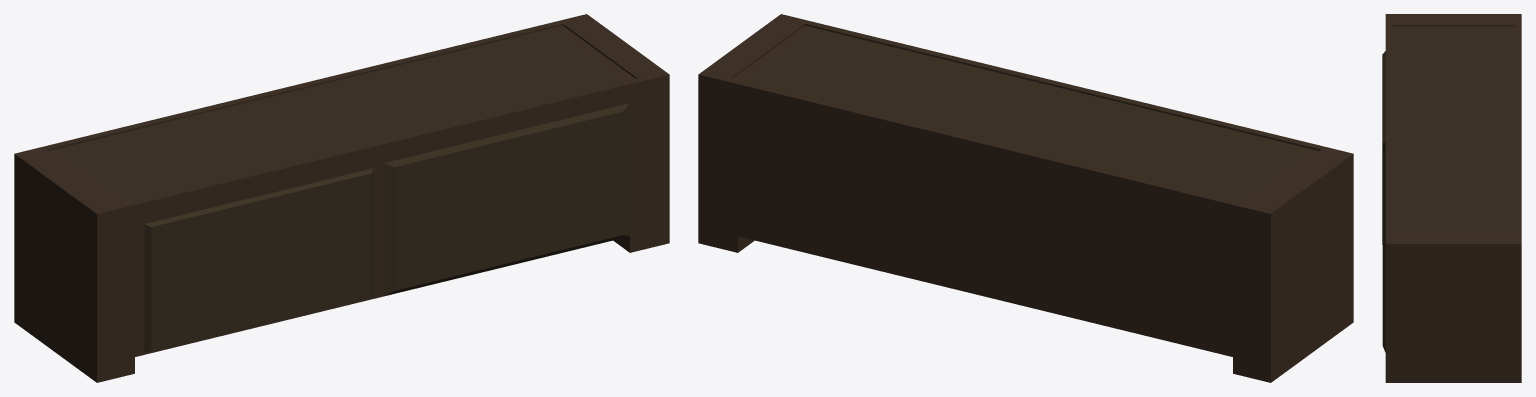
File: TV stand.fbx
3 renders of one model, left to right at view 1: azimuth 30°, elevation 25°; view 2: azimuth 150°, elevation 25°; view 3: azimuth 270°, elevation 25°, orthographic. The views are drawn at different scales.
Parts seen in each view (by area): view 1: Cube; view 2: Cube; view 3: Cube.
Part boxes in pixels (bbox=[...]): Cube: bbox=[14, 14, 669, 382]; Cube: bbox=[698, 14, 1353, 382]; Cube: bbox=[1382, 14, 1521, 382].
Size of the model in its own units: 400 by 113 by 103.
